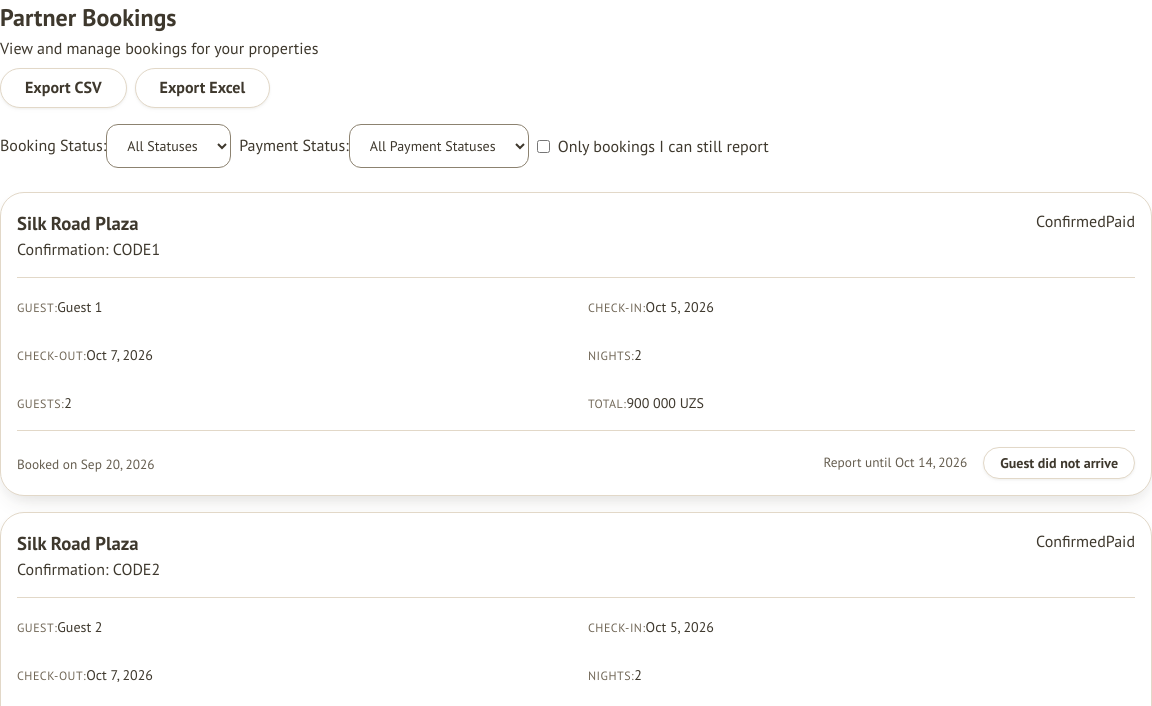
Test case: PartnerBookingsView no-show report › reloads the list after a report was sent and closes the dialog
Click the button "Guest did not arrive".
click(1059, 463)  # box [983,447,1135,479]
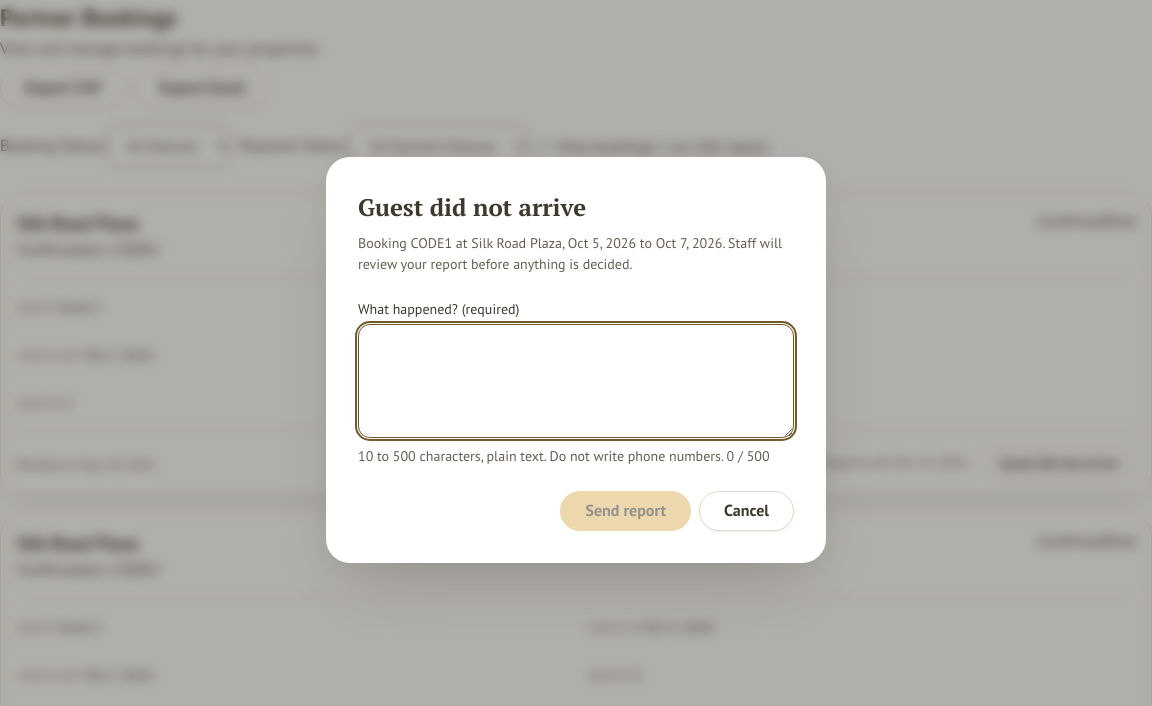
Type "The guest never arrived and did not answer." into the text box labelled "What happened? (required)".
click(576, 381); type("The guest never arrived and did not answer.")  # box [358,324,794,438]
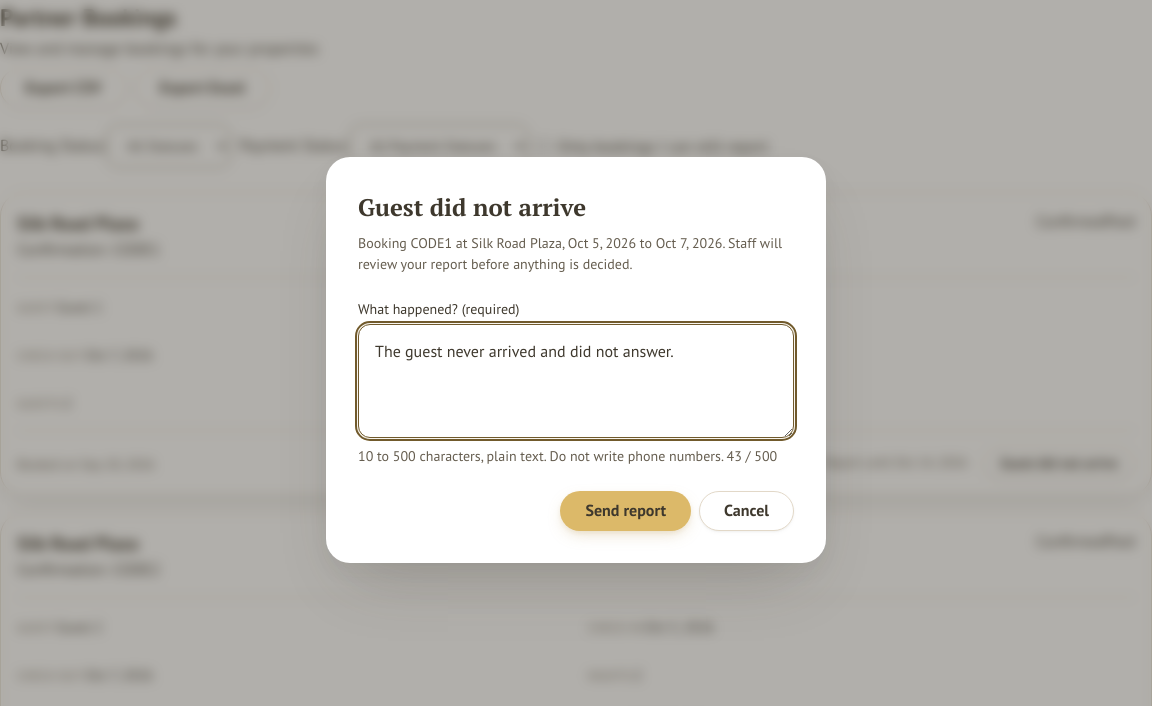
Click the button "Send report".
click(626, 511)  # box [560,491,691,531]
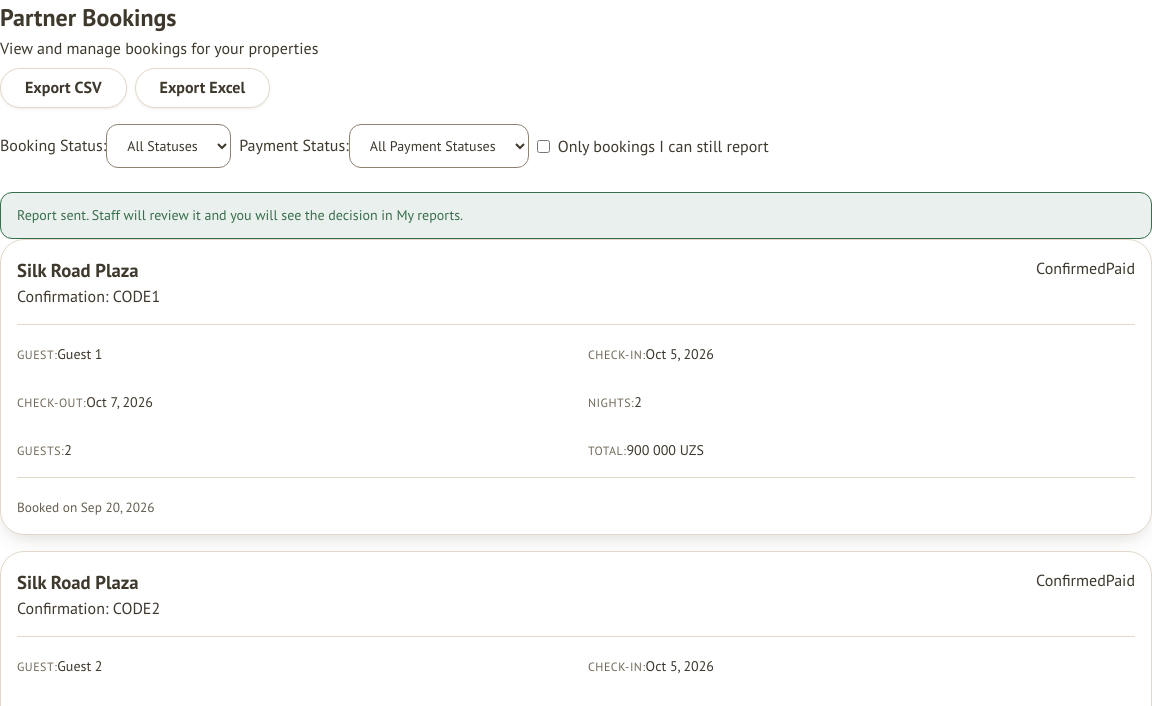
Expected: the button "Guest did not arrive" is gone
Expected: the message "Report sent" is shown, [0,192,1151,239]
